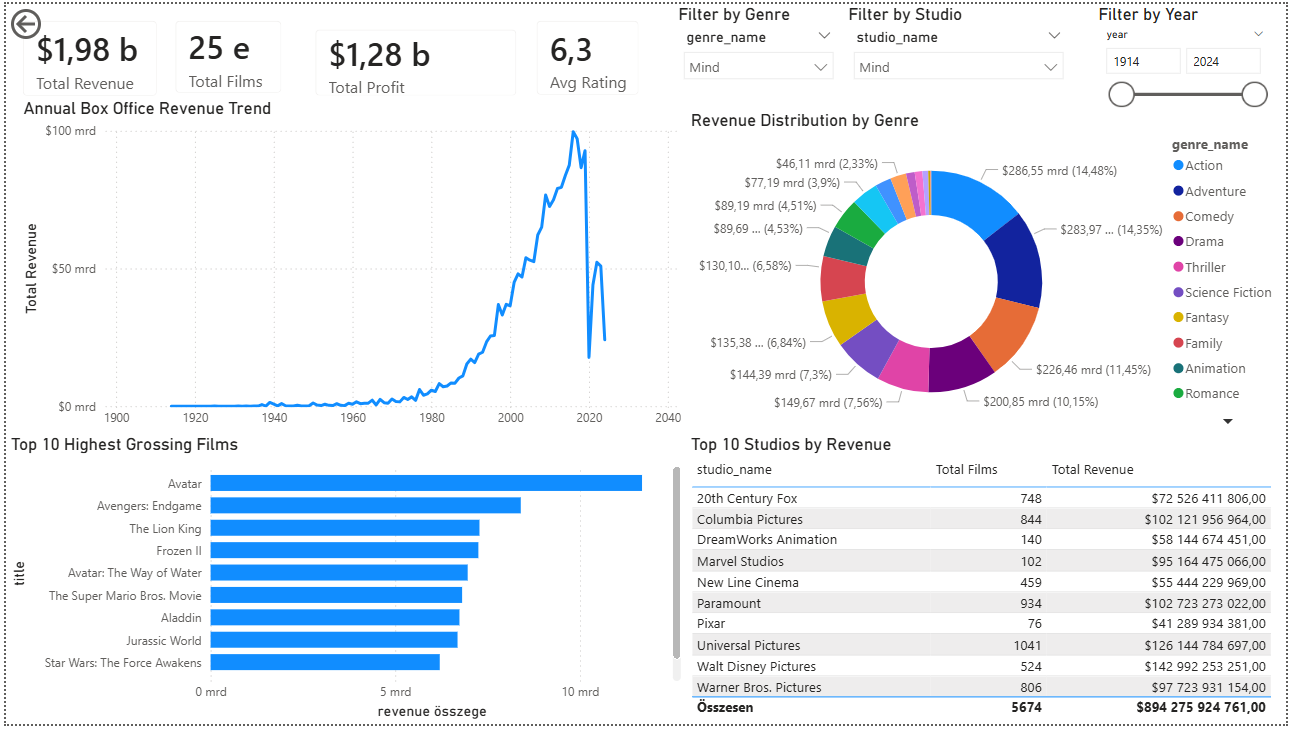

The dashboard page shown, as its layout file describes it:
{"tool":"powerbi","page":{"name":"Executive Dashboard","canvas":[1280,720],"ordinal":0},"visuals":[{"type":"cardVisual","fields":{"Data":["Fact_Movies.Total Revenue"]},"box":[0,0,169,109.6],"z":0},{"type":"cardVisual","fields":{"Data":["Fact_Movies.Total Films"]},"box":[152.5,0,140,106.2],"z":1000},{"type":"cardVisual","fields":{"Data":["Fact_Movies.Total Profit"]},"box":[292.5,8.8,235,100],"z":2000},{"type":"cardVisual","fields":{"Data":["Fact_Movies.Avg Rating"]},"box":[513.8,0,136.2,108.8],"z":3000},{"type":"lineChart","title":"Annual Box Office Revenue Trend","fields":{"Category":["Dim_Time.year"],"Y":["Fact_Movies.Total Revenue"]},"box":[12.5,93.8,667.5,352.5],"z":4000},{"type":"clusteredBarChart","title":"Top 10 Highest Grossing Films","fields":{"Category":["Fact_Movies.title"],"Y":["Sum(Fact_Movies.revenue)"]},"box":[0,430,680,290],"z":5000},{"type":"donutChart","title":"Revenue Distribution by Genre","fields":{"Category":["Dim_Genre.genre_name"],"Y":["Fact_Movies.Total Revenue"]},"box":[680,106.2,600,323.8],"z":6000},{"type":"slicer","title":"Filter by Year","fields":{"Values":["Dim_Time.year"]},"box":[1087.5,0,182.5,106.2],"z":7000},{"type":"tableEx","title":"Top 10 Studios by Revenue","fields":{"Values":["Dim_Studio.studio_name","Fact_Movies.Total Films","Fact_Movies.Total Revenue"]},"box":[680,430,600,290],"z":8000},{"type":"actionButton","box":[0,0,100,40],"z":9000},{"type":"slicer","title":"Filter by Genre","fields":{"Values":["Dim_Genre.genre_name"]},"box":[667.5,0,170,108.8],"z":10000},{"type":"slicer","title":"Filter by Studio","fields":{"Values":["Dim_Studio.studio_name"]},"box":[837.5,0,230,93.8],"z":11000}]}

Visuals, with their boxes in screenshot pixels (x1, y1, x2, y2), scaled from the page's 1280x720 canvas onto the 1292x732 screenshot:
cardVisual - Fact_Movies.Total Revenue: [left=0, top=0, right=171, bottom=111]
cardVisual - Fact_Movies.Total Films: [left=154, top=0, right=295, bottom=108]
cardVisual - Fact_Movies.Total Profit: [left=295, top=9, right=532, bottom=111]
cardVisual - Fact_Movies.Avg Rating: [left=519, top=0, right=656, bottom=111]
"Annual Box Office Revenue Trend" lineChart: [left=13, top=95, right=686, bottom=454]
"Top 10 Highest Grossing Films" clusteredBarChart: [left=0, top=437, right=686, bottom=731]
"Revenue Distribution by Genre" donutChart: [left=686, top=108, right=1291, bottom=437]
"Filter by Year" slicer: [left=1098, top=0, right=1282, bottom=108]
"Top 10 Studios by Revenue" tableEx: [left=686, top=437, right=1291, bottom=731]
actionButton: [left=0, top=0, right=101, bottom=41]
"Filter by Genre" slicer: [left=674, top=0, right=845, bottom=111]
"Filter by Studio" slicer: [left=845, top=0, right=1078, bottom=95]
